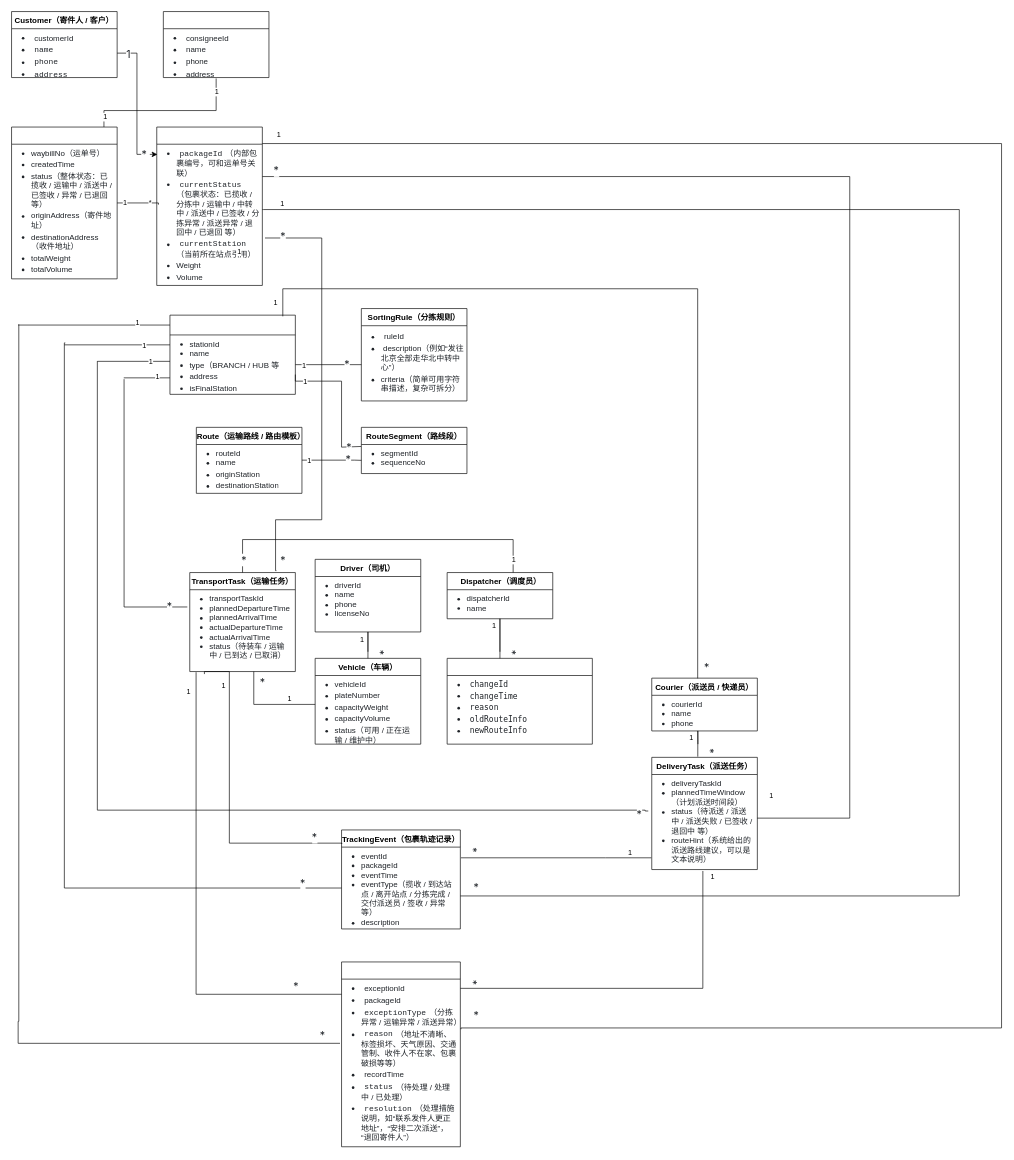
The diagram is 1014 pixels wide and 1160 high, and some of its shapes have lost their labels. The shapes that lost their labels are listed below. From the top down, each one's box as (x1, y1, x2, y2) in pixels, then its label:
(163, 11, 269, 78): Consignee（收件人）
(11, 126, 117, 279): Waybill（运单）
(156, 126, 262, 285): Package（包裹）
(169, 314, 295, 394): Station（站点 / 网点/ 中转站）
(446, 658, 592, 744): RouteChangeRecord（路线变更记录）
(341, 961, 460, 1147): ExceptionRecord（异常记录）
